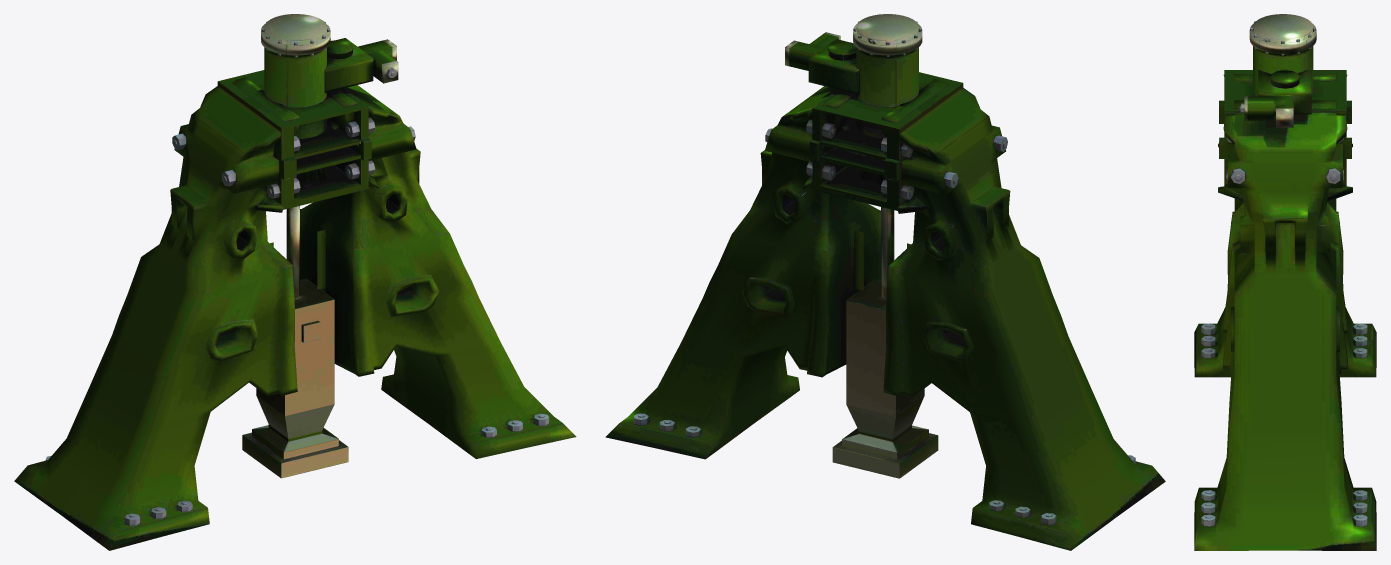
The model's file is steam hammerr.fbx.
3 renders of one model, left to right at view 1: azimuth 30°, elevation 25°; view 2: azimuth 150°, elevation 25°; view 3: azimuth 270°, elevation 25°, orthographic. The views are drawn at different scales.
Parts seen in each view (by area): view 1: Cube; view 2: Cube; view 3: Cube.
Boxes of the visible parts, x1,y1,x2,y2 form: Cube: [14, 14, 576, 550]; Cube: [605, 14, 1165, 550]; Cube: [1194, 14, 1376, 550].
Bounding box in the file's own units: 8.38 × 7.41 × 2.96.
1 material, 1 textured.
